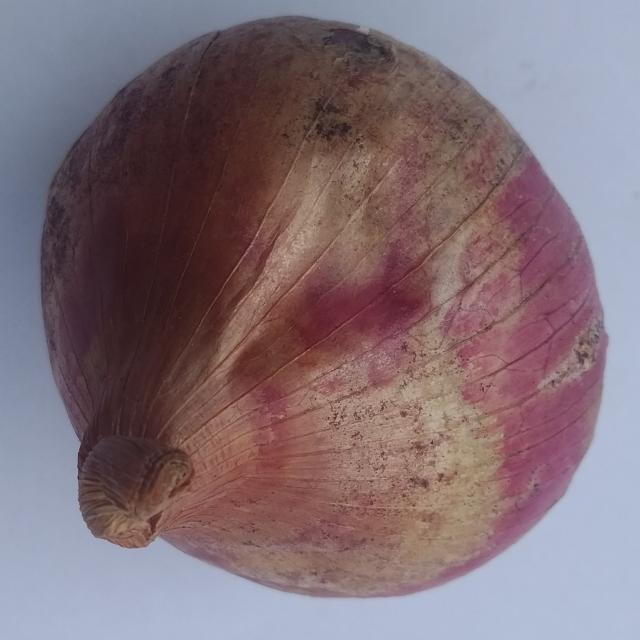onion: (37, 12, 610, 600)
